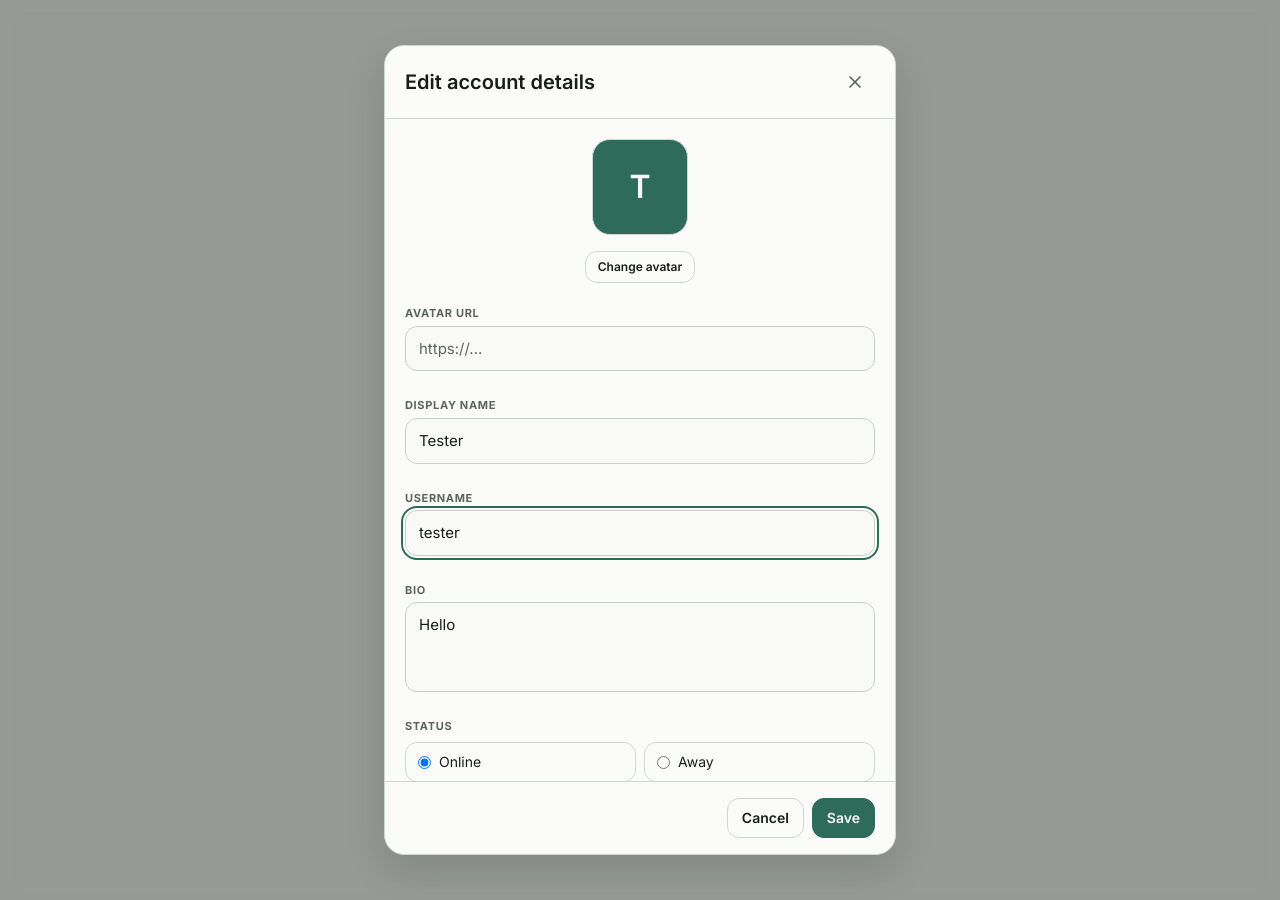
Test: ProfileModal › keeps Save labelled while saving
This screenshot has width=1280, height=900.
Click the button "Save" at (843, 818), box [812, 798, 875, 838]
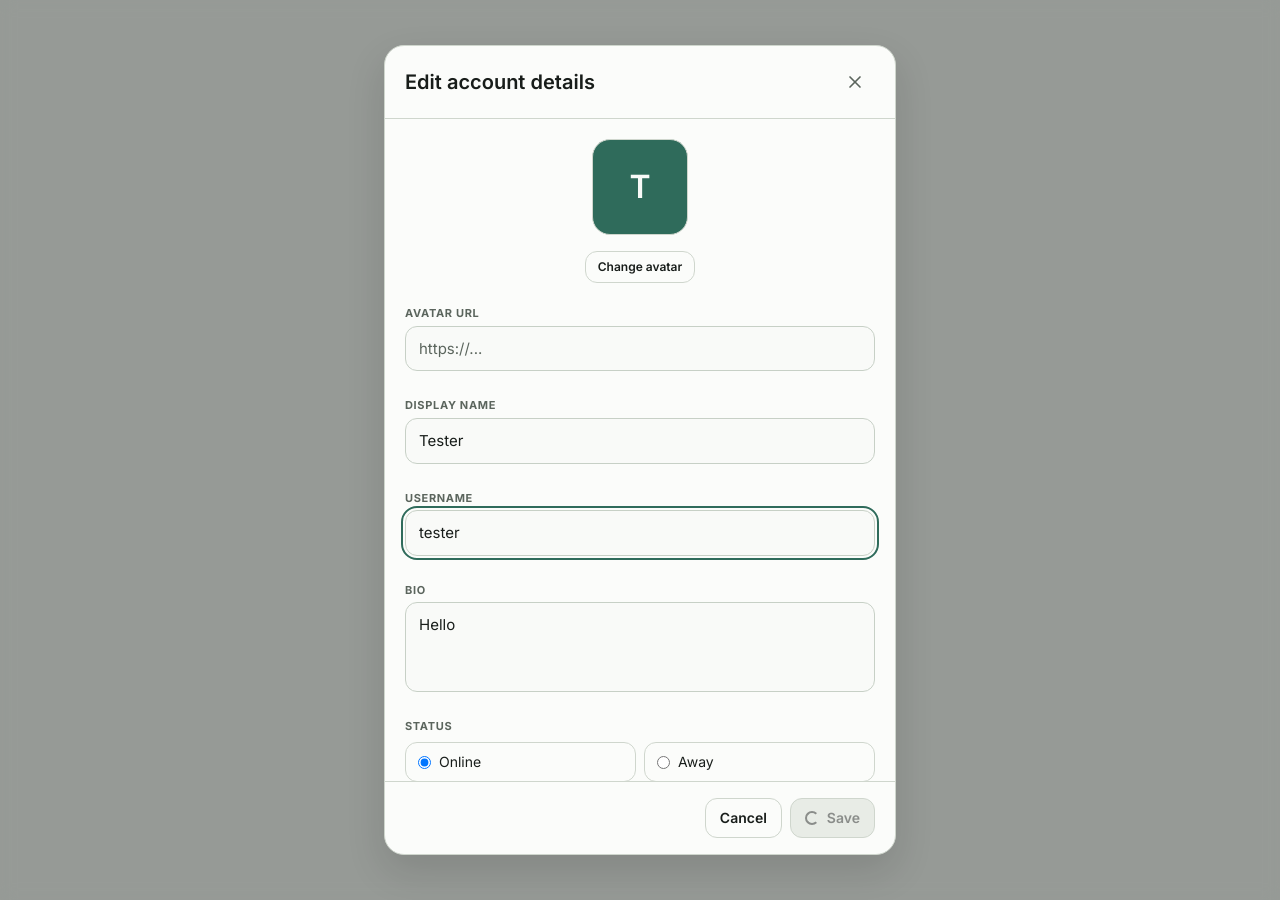
Now the button "Save" is disabled, box [790, 798, 875, 838]
